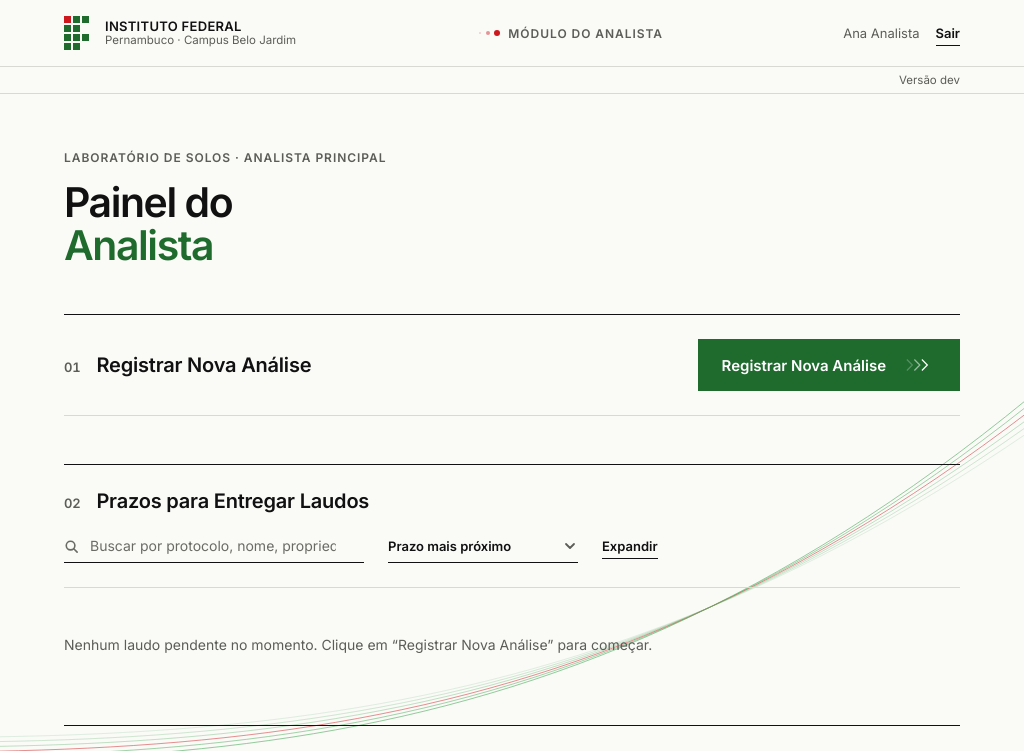
Scenario: painel do analista › mostra erro do servidor ao cadastrar protocolo duplicado (409)
Click the button "Registrar Nova Análise" at (829, 365), box x1=698 y1=339 x2=960 y2=391
(page scrolled)
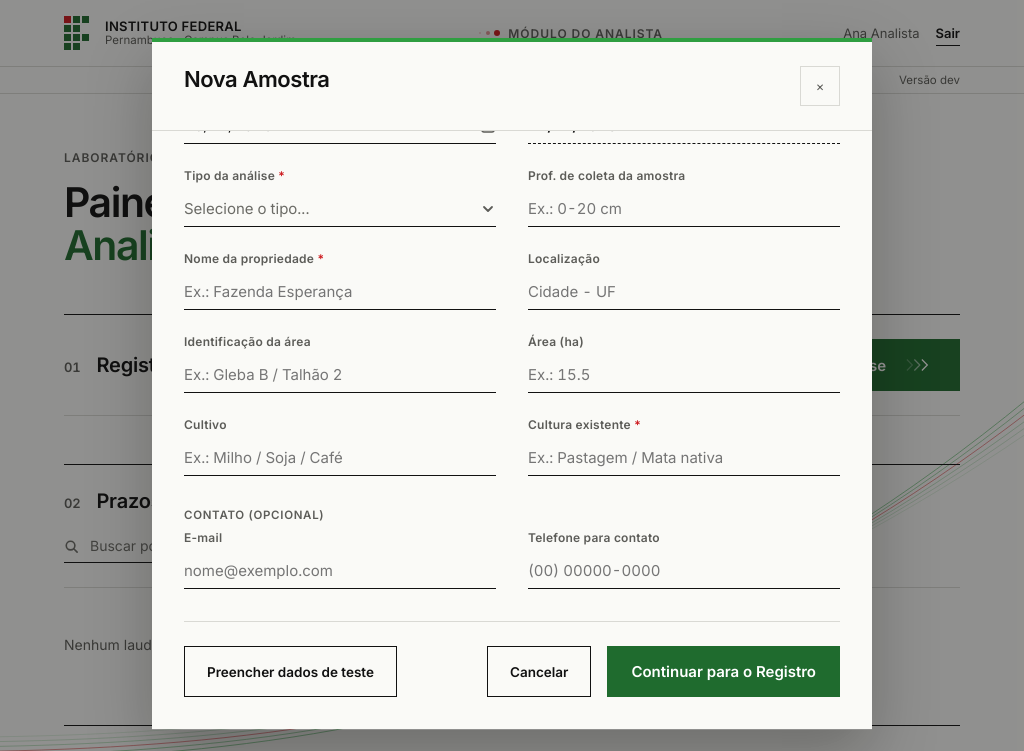
Click the button "Preencher dados de teste" at (290, 672), box x1=184 y1=646 x2=397 y2=697
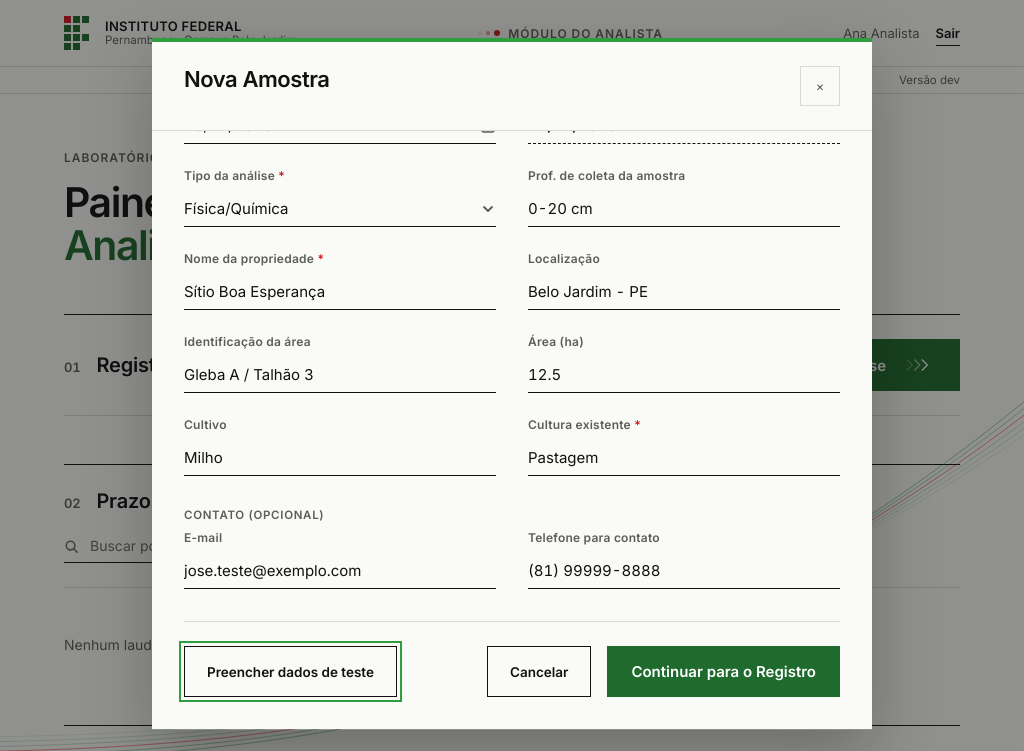
Click the button "Continuar para o Registro" at (724, 672), box x1=607 y1=646 x2=840 y2=697
(page scrolled)
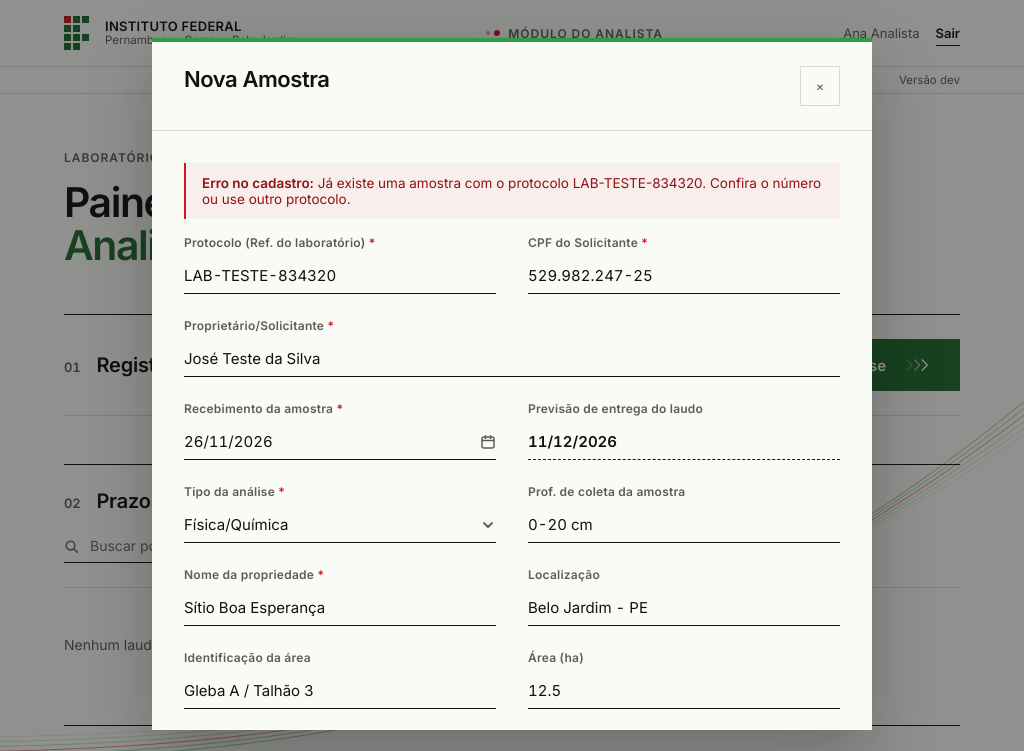
Expected: the text "Já existe uma amostra com o protocolo" is shown, x1=202 y1=175 x2=821 y2=207
